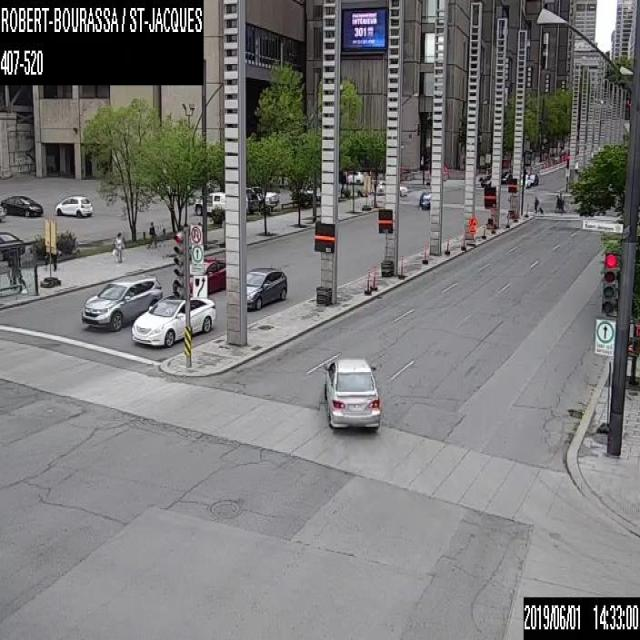construction: (362, 266, 370, 294), (398, 253, 406, 279), (468, 214, 477, 234), (371, 264, 377, 290), (505, 213, 510, 227), (423, 245, 426, 263), (446, 234, 449, 250), (461, 233, 464, 246), (515, 210, 518, 222), (525, 205, 528, 215), (482, 228, 485, 237)
pedestrian: (112, 229, 124, 263), (146, 218, 158, 246), (532, 195, 538, 212), (558, 190, 562, 211), (562, 193, 565, 212), (555, 192, 558, 211)
vehicle: (80, 273, 165, 330), (321, 353, 380, 431), (132, 294, 215, 348), (245, 263, 288, 309), (173, 257, 225, 294), (193, 190, 225, 217), (0, 196, 43, 216), (54, 193, 92, 214), (0, 230, 25, 258), (252, 185, 278, 208), (376, 179, 408, 196), (246, 186, 263, 210), (245, 190, 257, 212), (417, 190, 429, 210), (500, 171, 512, 182), (520, 173, 530, 186), (480, 174, 490, 187), (528, 172, 538, 184), (0, 205, 6, 219)
